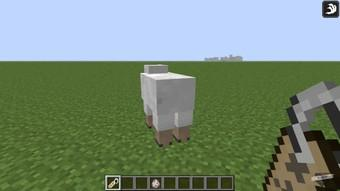sheep: (139, 64, 197, 149)
